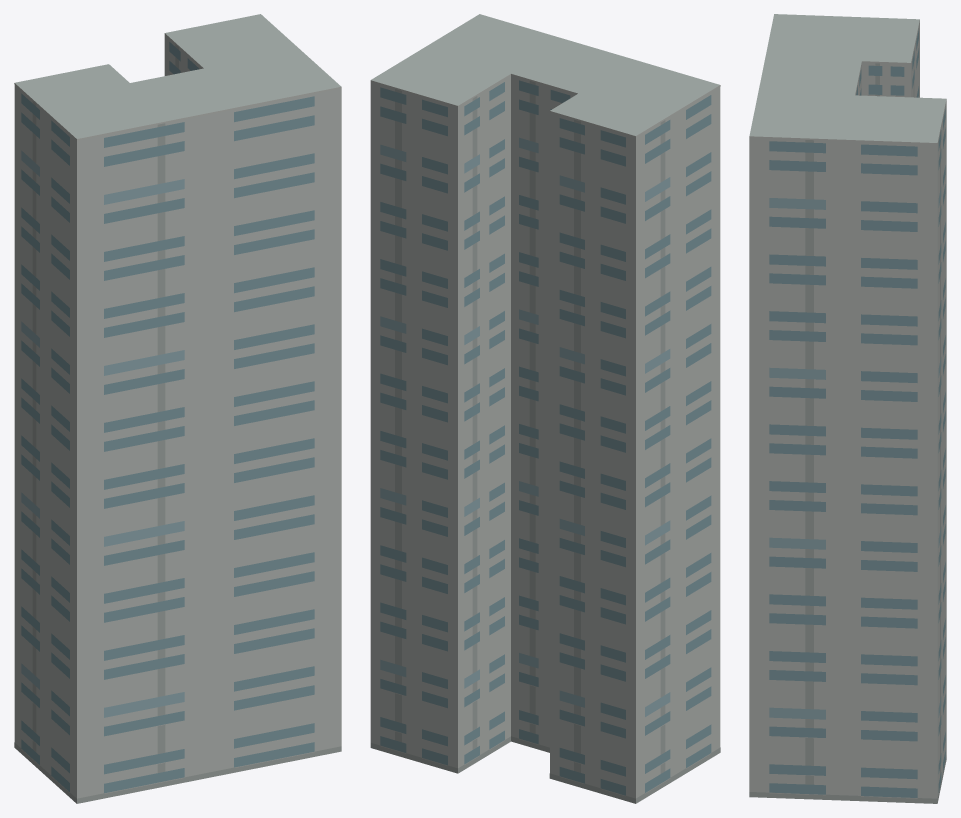
File: residential-8c41e3a9-70d3-4d10-a36a-8640147a87b5.glb
The picture shows the model from 3 angles, left to right: view 1: azimuth 30°, elevation 25°; view 2: azimuth 150°, elevation 25°; view 3: azimuth 270°, elevation 25°; orthographic projection.
Parts seen in each view (by area): view 1: residential-8c41e3a9-70d3-4d10-a36a-8640147a87b5.tmp; view 2: residential-8c41e3a9-70d3-4d10-a36a-8640147a87b5.tmp; view 3: residential-8c41e3a9-70d3-4d10-a36a-8640147a87b5.tmp.
Boxes of the visible parts, <box> form: residential-8c41e3a9-70d3-4d10-a36a-8640147a87b5.tmp: <box>14,14,341,803</box>; residential-8c41e3a9-70d3-4d10-a36a-8640147a87b5.tmp: <box>370,14,720,803</box>; residential-8c41e3a9-70d3-4d10-a36a-8640147a87b5.tmp: <box>749,14,946,803</box>.
Bounding box in the file's own units: 43.17 × 103 × 27.87.
